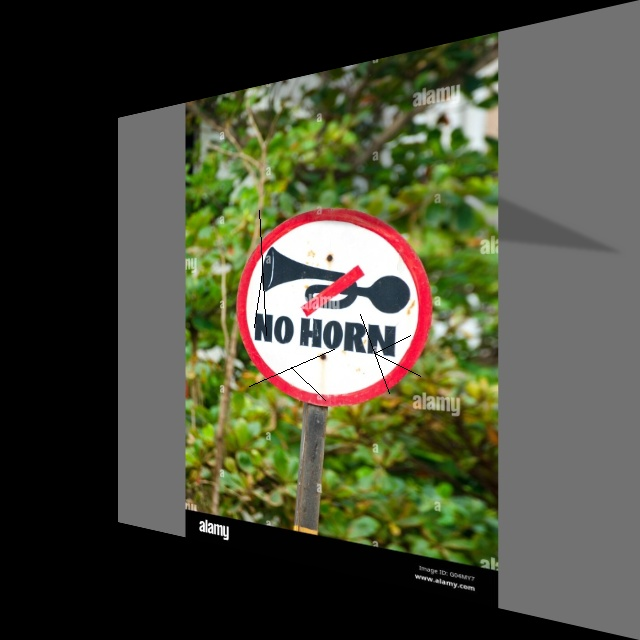Horn_Prohibited: (240, 194, 429, 417)
